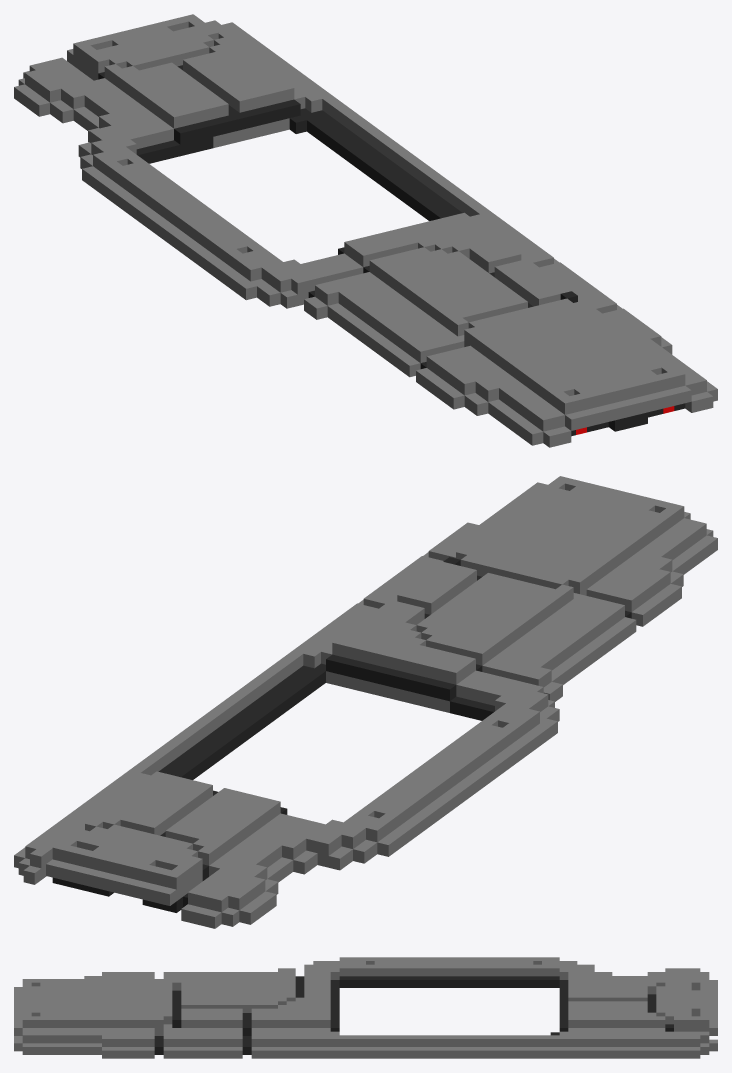
File: Extra-11-DualStriker_TopShell_L.obj
3 views of the same model, one above another, from view 1: azimuth 30°, elevation 25°; view 2: azimuth 150°, elevation 25°; view 3: azimuth 270°, elevation 25° (orthographic). The views are drawn at different scales.
Visible parts, largest first — view 1: DualStriker_TopShell_L; view 2: DualStriker_TopShell_L; view 3: DualStriker_TopShell_L.
Part boxes in pixels (left/top/right/bottom): DualStriker_TopShell_L: left=14, top=14, right=717, bottom=447; DualStriker_TopShell_L: left=14, top=476, right=717, bottom=928; DualStriker_TopShell_L: left=14, top=957, right=717, bottom=1058.
Bounding box in the file's own units: 2.4 × 0.3 × 8.
1 material, 1 textured.
